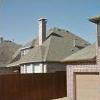Chimney: (31, 11, 56, 51)
